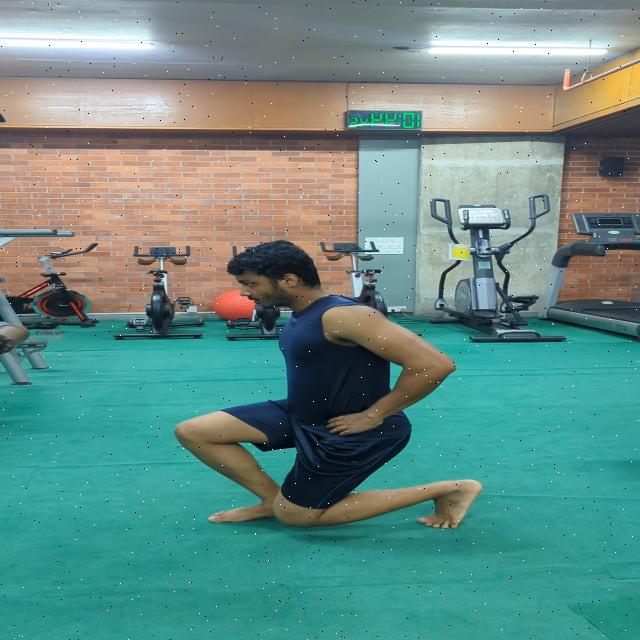Normal_Lunges: (163, 234, 487, 541)
